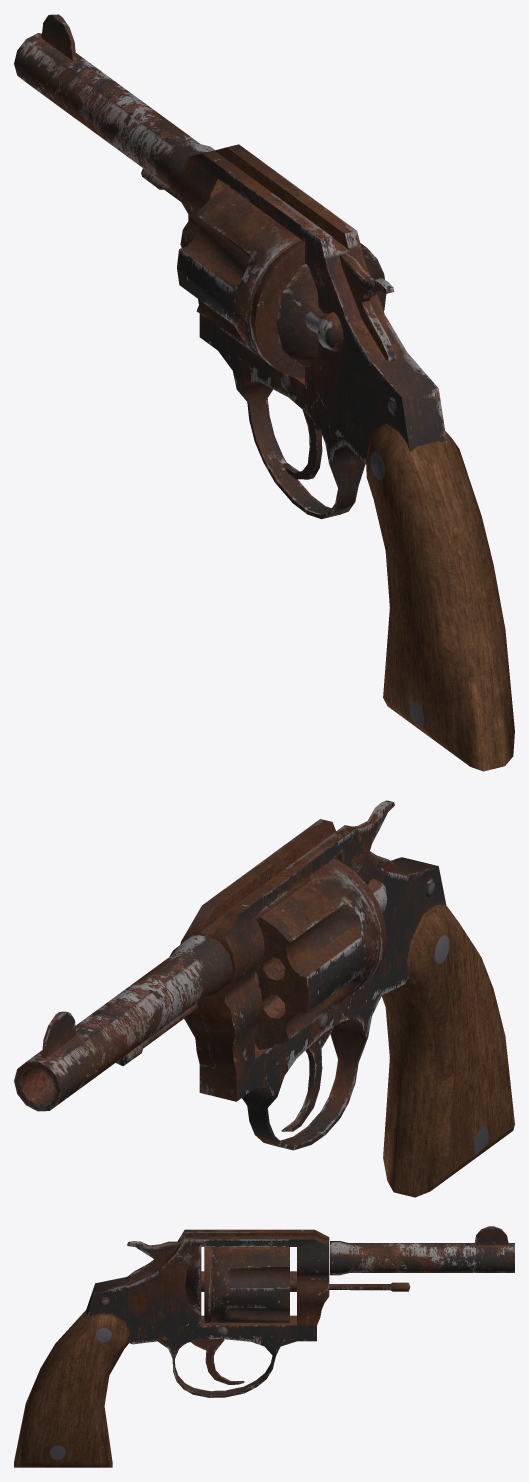
Rendered from revolver.glb.
3 views of the same model, one above another, from view 1: azimuth 30°, elevation 25°; view 2: azimuth 150°, elevation 25°; view 3: azimuth 270°, elevation 25° (orthographic). The views are drawn at different scales.
Visible parts, largest first — view 1: body, magazine; view 2: body, magazine; view 3: body, magazine.
Part boxes in pixels (bbox=[...]): body: bbox=[14, 14, 514, 771]; magazine: bbox=[177, 189, 386, 378]; body: bbox=[14, 800, 514, 1197]; magazine: bbox=[255, 858, 386, 1049]; body: bbox=[14, 1226, 514, 1467]; magazine: bbox=[185, 1247, 296, 1322].
Size of the model in its own units: 0.065 by 0.2046 by 0.39.
1 material, 1 textured.
